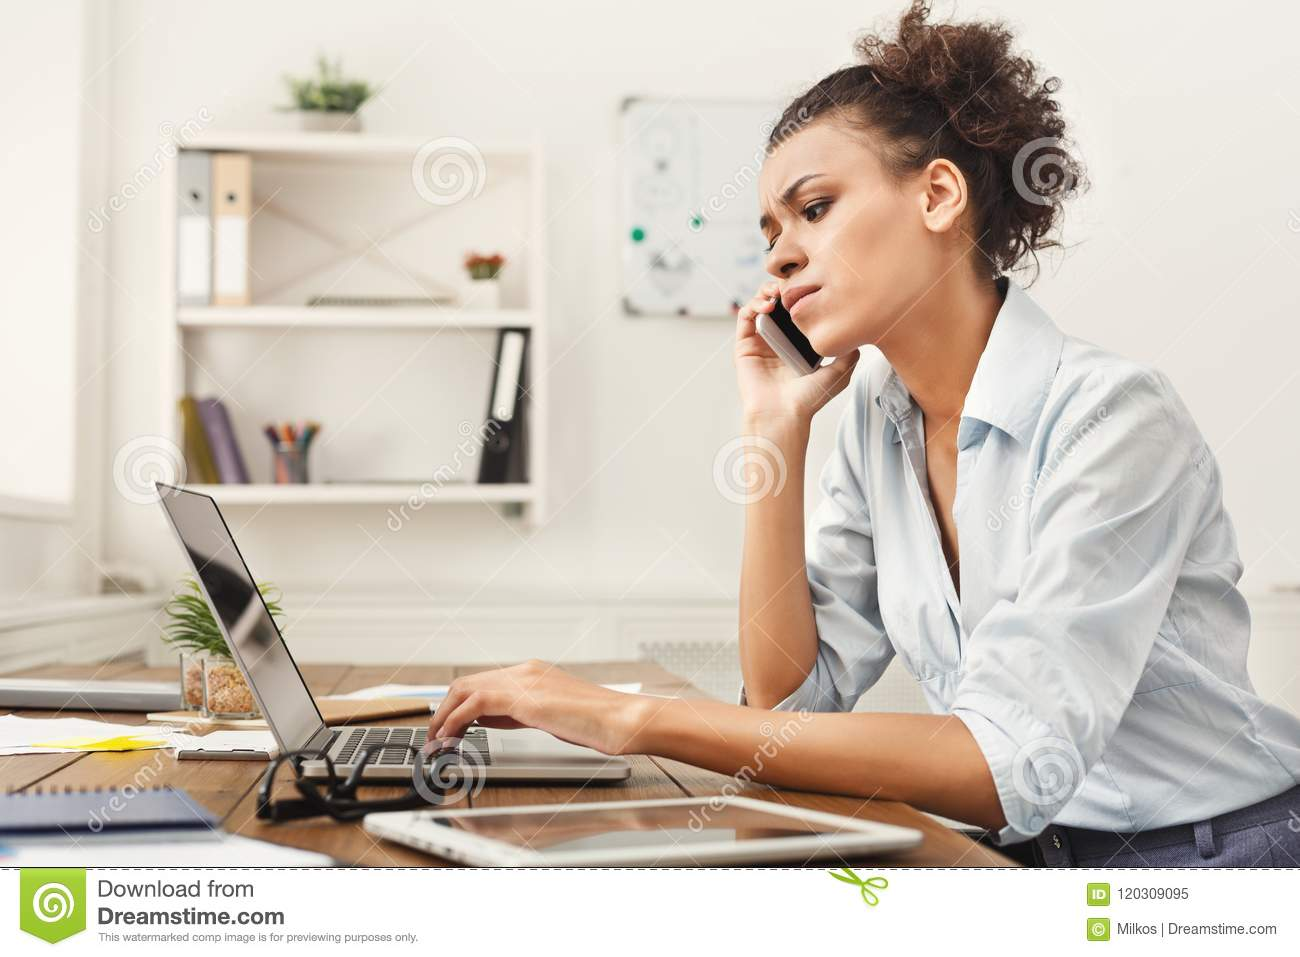phone: (750, 295, 828, 382)
talk: (736, 164, 865, 445)
